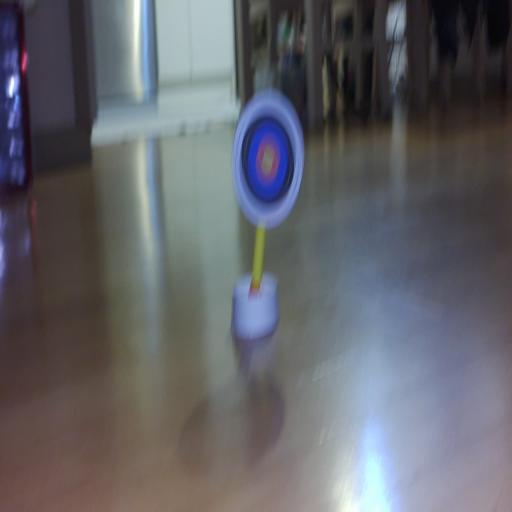target: (232, 89, 304, 229)
